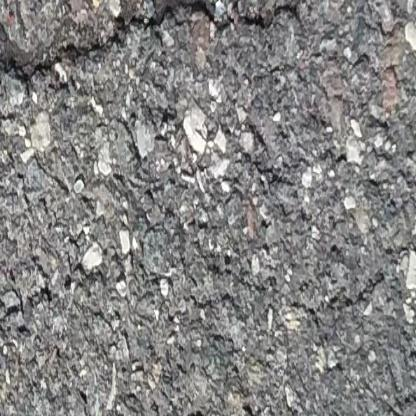Cracks: (0, 0, 304, 100)
